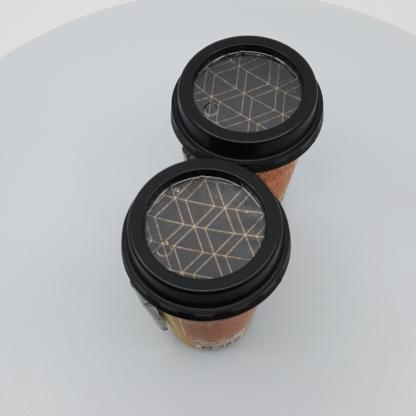--------------250ML: (121, 158, 291, 351), (171, 35, 324, 214)
